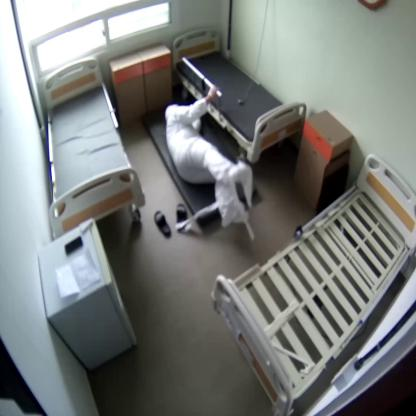Person: (166, 84, 252, 222)
